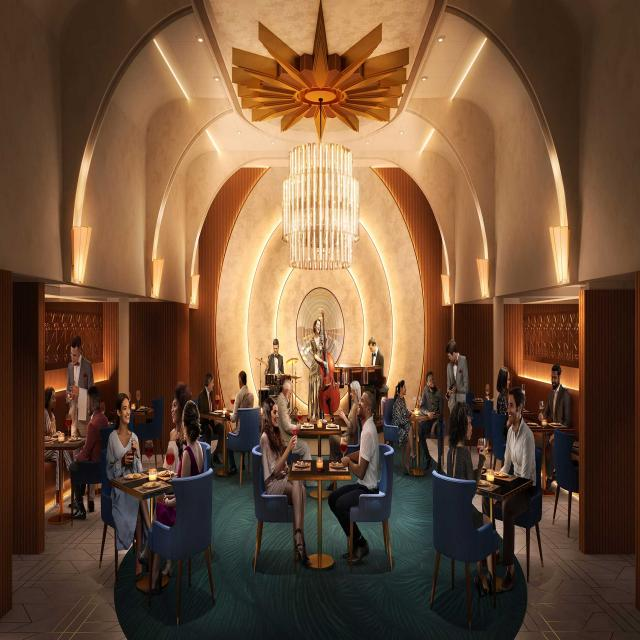person: (251, 380, 313, 561), (328, 392, 390, 523), (113, 394, 148, 572), (444, 393, 487, 529), (499, 385, 534, 509), (76, 384, 112, 504), (542, 343, 570, 496), (36, 382, 72, 496), (274, 375, 315, 474), (440, 326, 471, 433), (176, 409, 211, 498), (415, 352, 443, 458), (355, 311, 392, 382), (388, 370, 416, 459), (65, 327, 95, 405), (260, 330, 294, 392), (163, 378, 185, 461), (338, 370, 362, 443), (232, 361, 256, 433), (494, 354, 513, 436), (202, 359, 221, 439), (310, 313, 325, 386)
